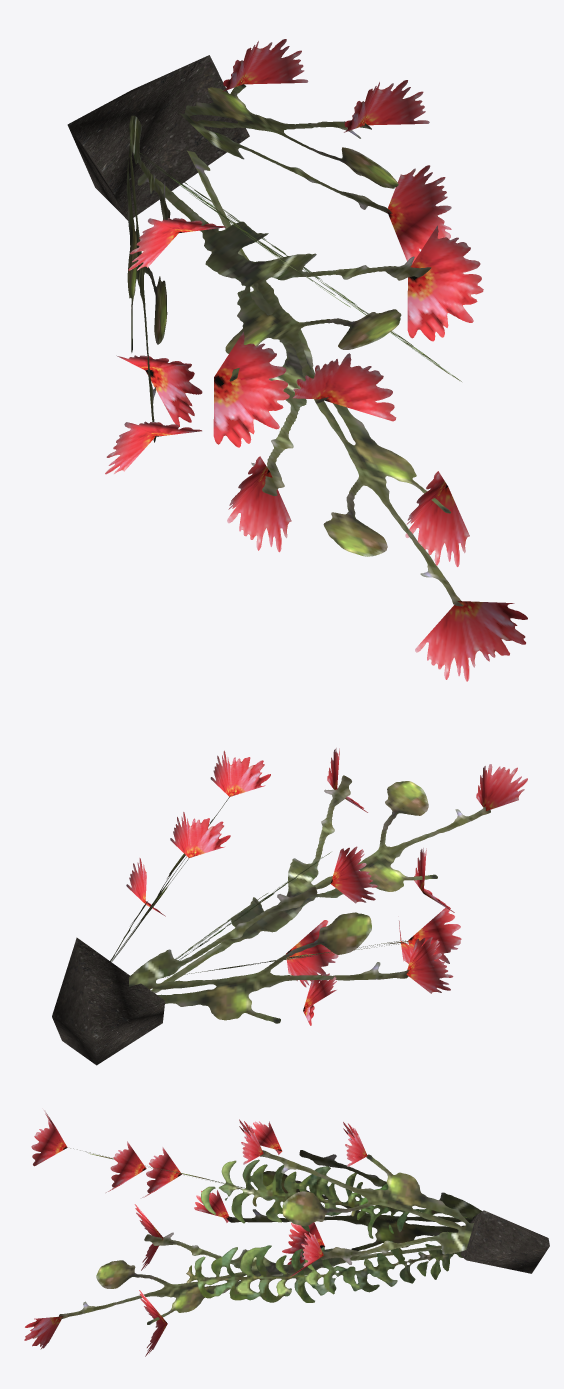
Rendered from com_flower_red2_LOD1.obj.
3 views of the same model, one above another, from view 1: azimuth 30°, elevation 25°; view 2: azimuth 150°, elevation 25°; view 3: azimuth 270°, elevation 25° (orthographic). The views are drawn at different scales.
Visible parts, largest first — view 1: mtl_gardenflowers, mtl_plastic_bucket_soil; view 2: mtl_gardenflowers, mtl_plastic_bucket_soil; view 3: mtl_gardenflowers, mtl_plastic_bucket_soil.
Boxes of the visible parts, x1,y1,x2,y2 form: mtl_gardenflowers: [105, 39, 527, 681]; mtl_plastic_bucket_soil: [67, 55, 249, 220]; mtl_gardenflowers: [110, 748, 527, 1025]; mtl_plastic_bucket_soil: [52, 937, 165, 1065]; mtl_gardenflowers: [24, 1110, 481, 1356]; mtl_plastic_bucket_soil: [460, 1210, 549, 1273].
Size of the model in its own units: 30.52 by 31.66 by 55.48.
